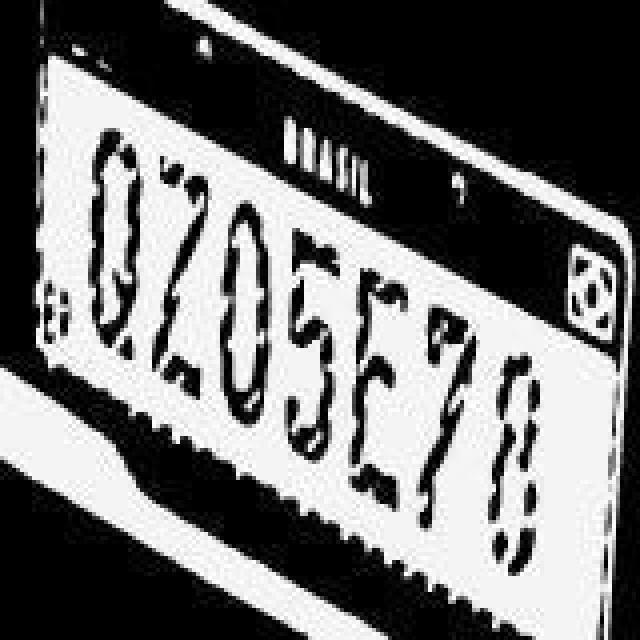5: (276, 222, 340, 466)
7: (416, 296, 480, 552)
8: (486, 344, 546, 584)
E: (346, 252, 406, 516)
O: (220, 190, 276, 434)
Q: (82, 116, 142, 364)
Z: (150, 150, 210, 410)
